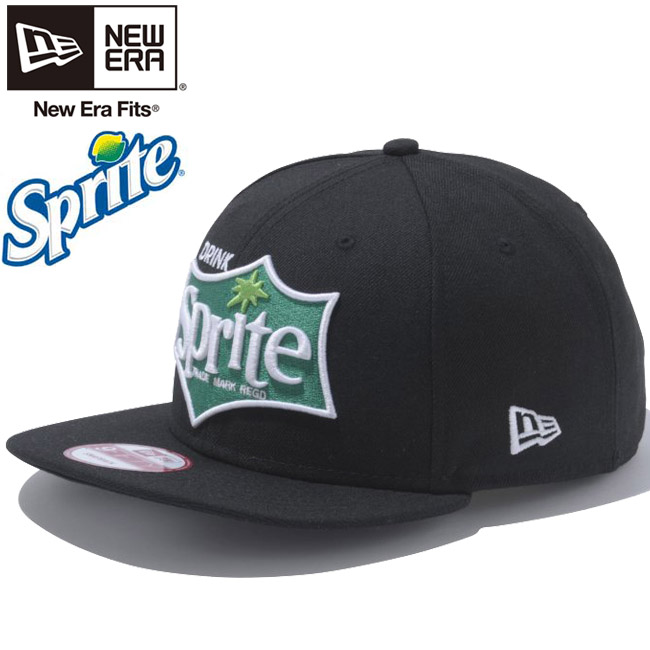sprite: (3, 135, 175, 267), (3, 135, 175, 262)
